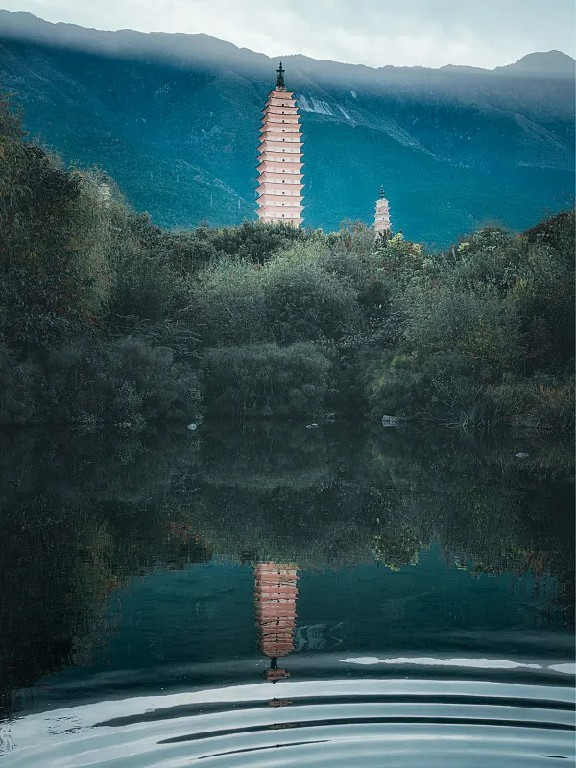ThreePagoda: (253, 60, 306, 229)
